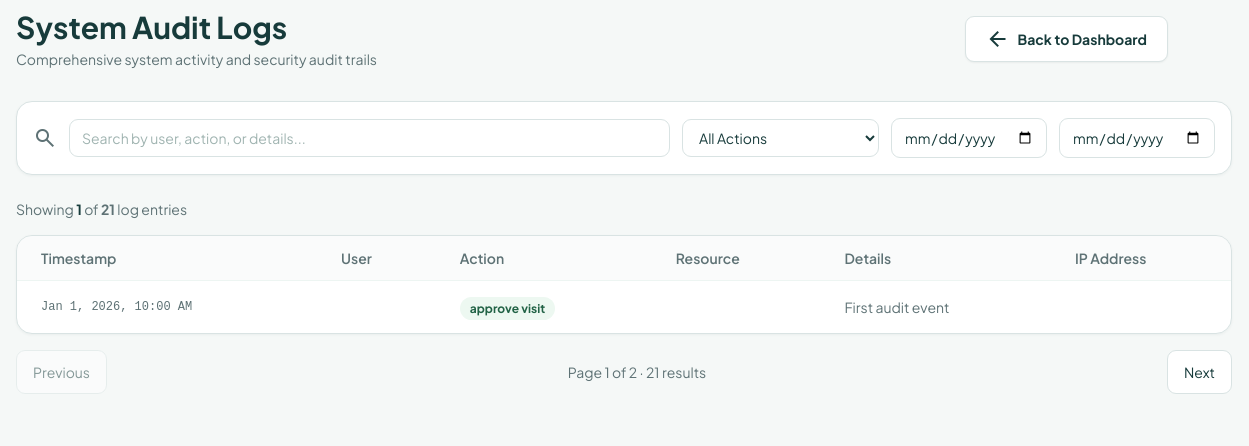
Test: admin audit search combines action and date filters with page-one results
The image size is (1249, 446).
Check: the text "First audit event" is shown, box [820,280,1051,333]
Check: the text "Older audit event" is not shown
Click the button with aria-label "Next page" at (1200, 372), box [1167,350,1232,394]
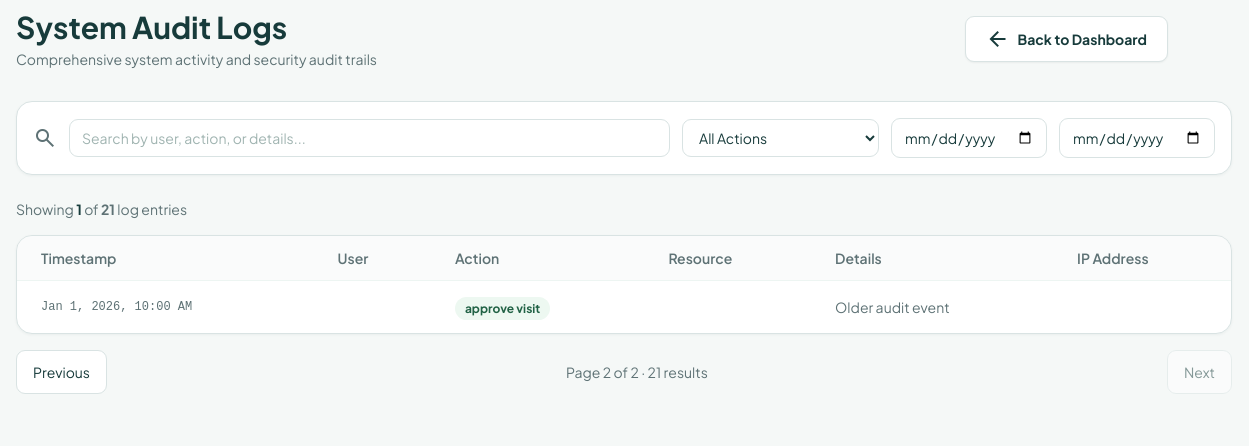
Check: the text "Older audit event" is shown, box [811,280,1053,333]
Select "Visit Approved" in the dropdown named "Audit action" at (780, 138), box [682,119,879,157]
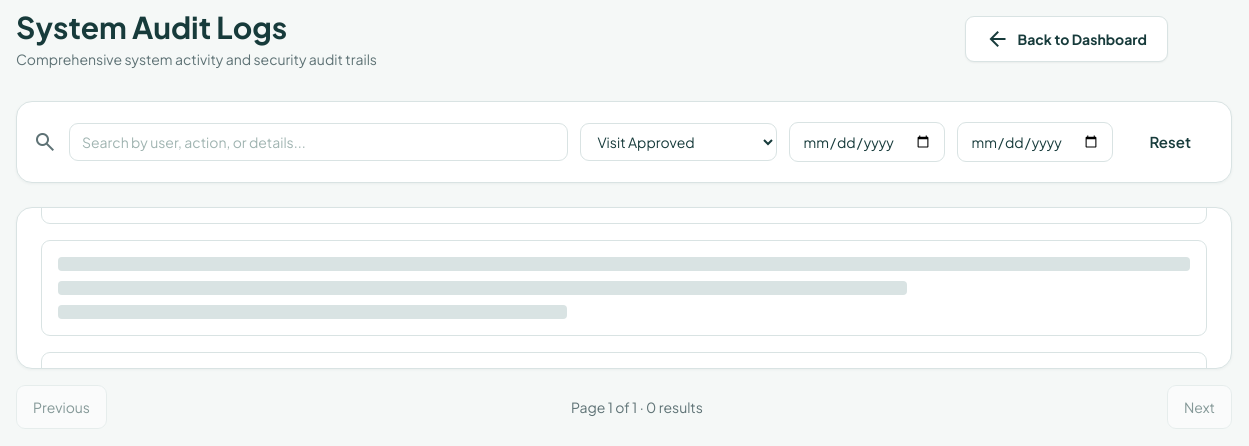
Type "2026-01-01" into the date field named "Start date" at (868, 142), box [790,122,946,162]
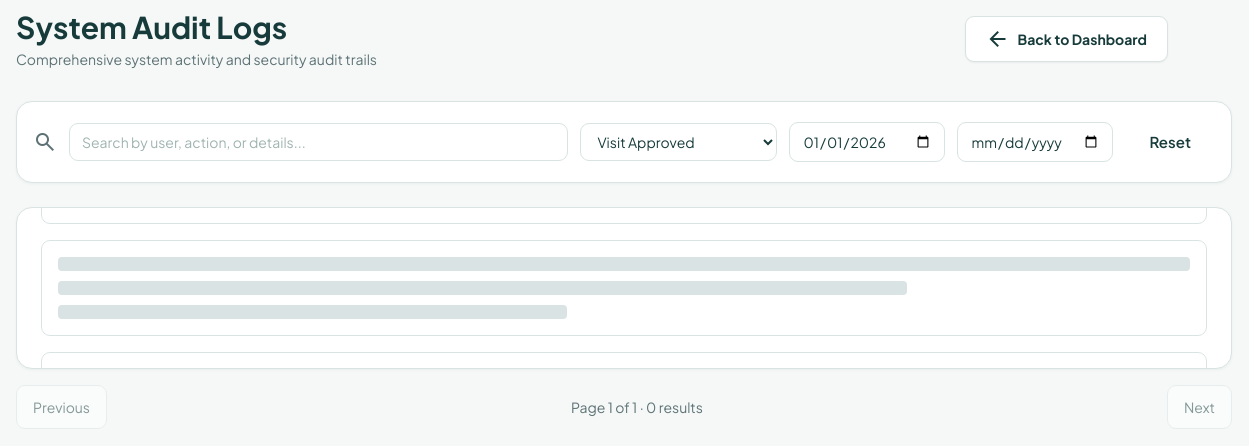
Type "2026-01-02" into the date field named "End date" at (1036, 142), box [958,122,1114,162]
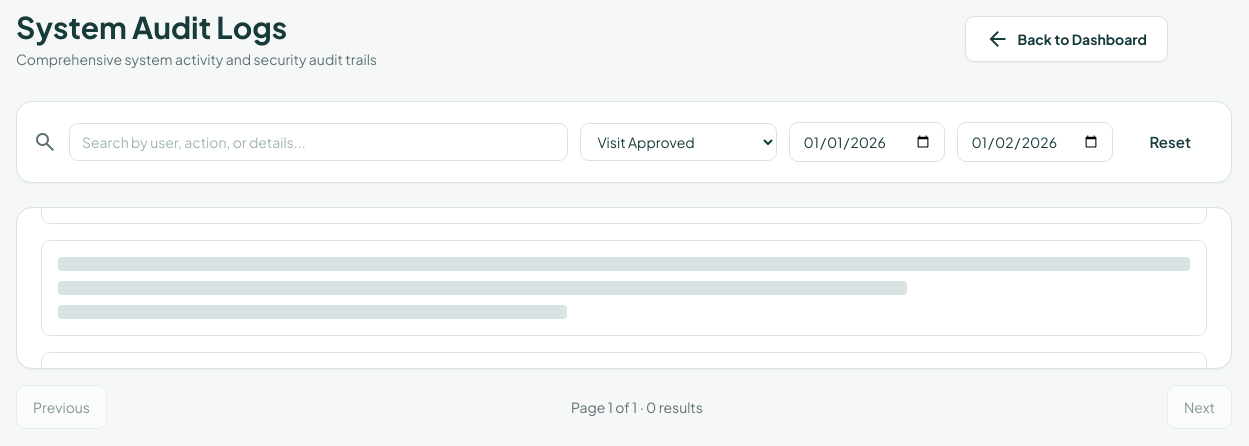
Type "Older" into the field named "Search audit logs" at (319, 142), box [69,123,568,161]
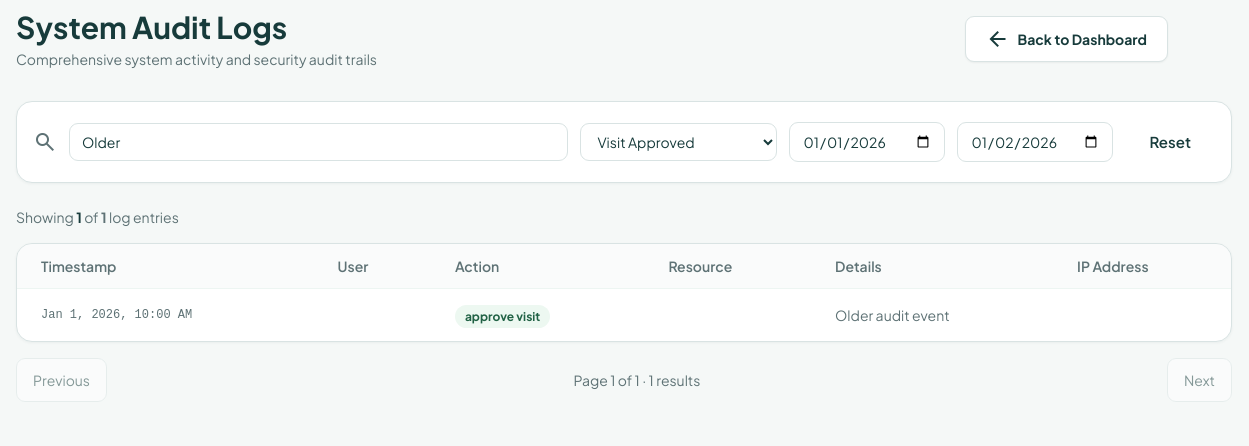
Check: the text "Older audit event" is shown, box [811,288,1053,341]
